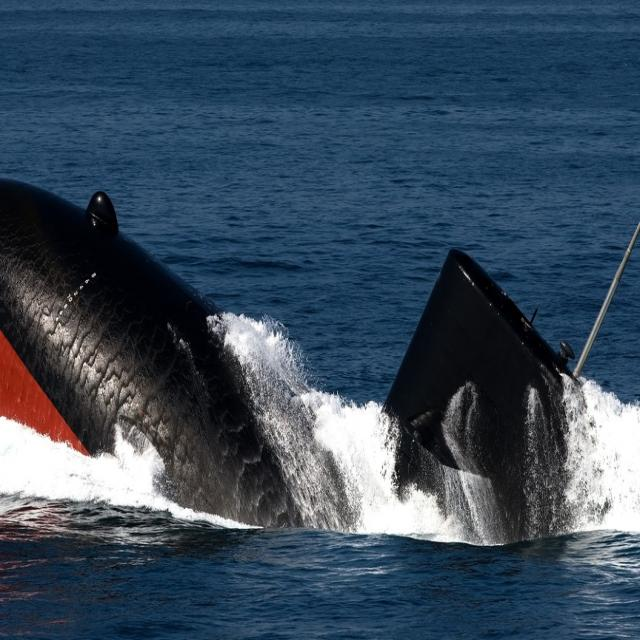submarine: (1, 171, 640, 549)
